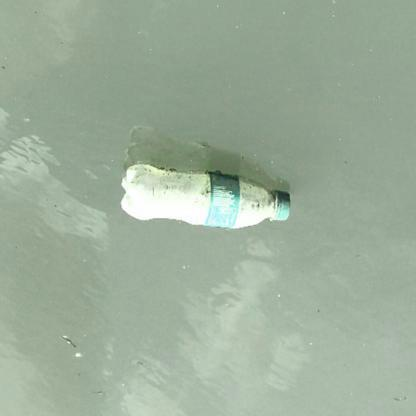Plastic: (117, 160, 293, 233)
